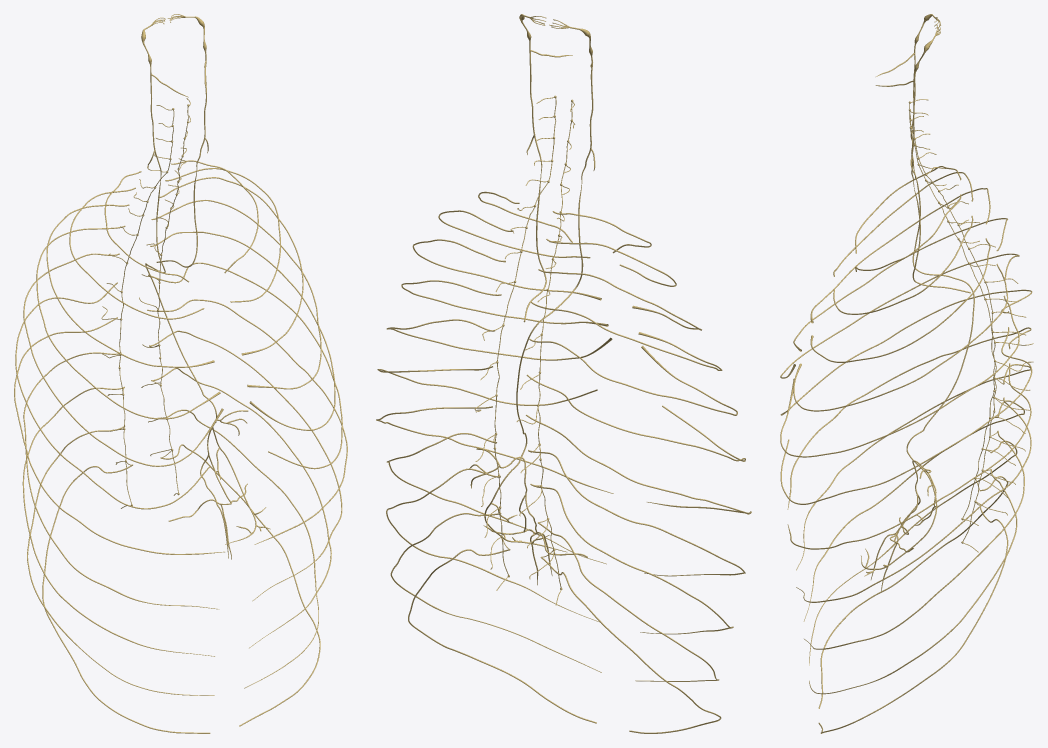
The model's file is thorax-nerves-mobile.glb.
The picture shows the model from 3 angles, left to right: view 1: azimuth 30°, elevation 25°; view 2: azimuth 150°, elevation 25°; view 3: azimuth 270°, elevation 25°; orthographic projection. The views are drawn at different scales.
Parts seen in each view (by area): view 1: za.intercostal-nerves-r, za.intercostal-nerves-l, za.vagus-nerve-x-r, za.vagus-nerve-x-l, za.sympathetic-trunk-r; view 2: za.intercostal-nerves-l, za.intercostal-nerves-r, za.vagus-nerve-x-r, za.vagus-nerve-x-l, za.sympathetic-trunk-l, za.sympathetic-trunk-r, za.sympathetic-nerves-l; view 3: za.intercostal-nerves-l, za.intercostal-nerves-r, za.vagus-nerve-x-r, za.vagus-nerve-x-l, za.sympathetic-trunk-l, za.sympathetic-nerves-l, za.sympathetic-nerves-r, za.sympathetic-trunk-r.
Part boxes in pixels (bbox=[...]): za.intercostal-nerves-r: bbox=[14, 171, 224, 733]; za.intercostal-nerves-l: bbox=[147, 160, 347, 726]; za.vagus-nerve-x-r: bbox=[141, 17, 270, 559]; za.vagus-nerve-x-l: bbox=[156, 14, 208, 267]; za.sympathetic-trunk-r: bbox=[119, 105, 174, 508]; za.intercostal-nerves-l: bbox=[376, 191, 613, 723]; za.intercostal-nerves-r: bbox=[526, 211, 751, 733]; za.vagus-nerve-x-r: bbox=[469, 19, 595, 585]; za.vagus-nerve-x-l: bbox=[519, 14, 572, 322]; za.sympathetic-trunk-l: bbox=[494, 97, 556, 590]; za.sympathetic-trunk-r: bbox=[538, 101, 574, 605]; za.sympathetic-nerves-l: bbox=[474, 116, 553, 569]; za.intercostal-nerves-l: bbox=[780, 194, 1032, 733]; za.intercostal-nerves-r: bbox=[780, 166, 1032, 708]; za.vagus-nerve-x-r: bbox=[861, 14, 974, 590]; za.vagus-nerve-x-l: bbox=[875, 24, 970, 293]; za.sympathetic-trunk-l: bbox=[909, 110, 996, 552]; za.sympathetic-nerves-l: bbox=[911, 128, 1033, 515]; za.sympathetic-nerves-r: bbox=[912, 116, 1033, 497]; za.sympathetic-trunk-r: bbox=[909, 99, 996, 525].
Bounding box in the file's own units: 0.2744 × 0.5943 × 0.1967.
